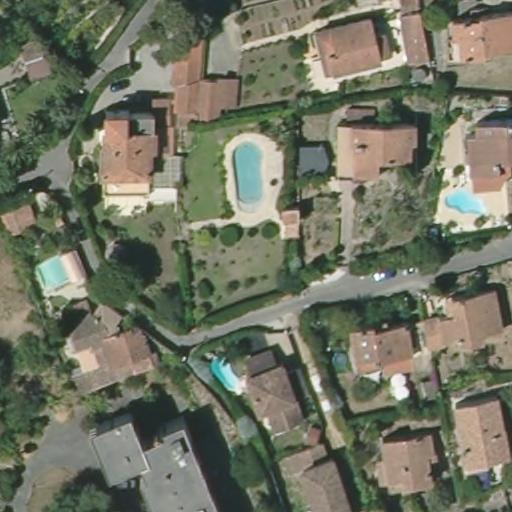pool: (227, 139, 269, 209), (207, 346, 248, 398), (439, 182, 491, 217), (35, 253, 73, 293)
